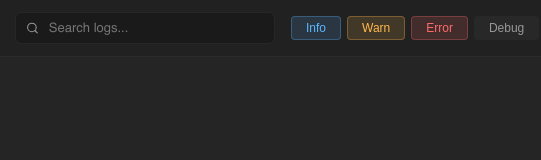
Test: ConsoleToolbar › offers to clear the search only when there is one
Type "usb" into the field with placeholder "Search logs...". click: (154, 28)
box: [45, 20, 264, 36]
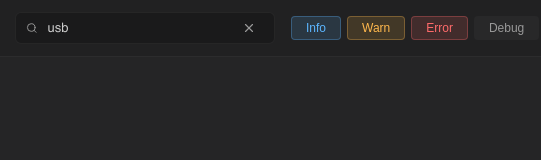
Click the button named "Clear search". click: (252, 28)
box: [240, 19, 264, 37]
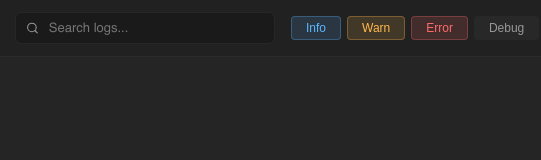
Now the field with placeholder "Search logs..." is empty, box [45, 20, 264, 36]
